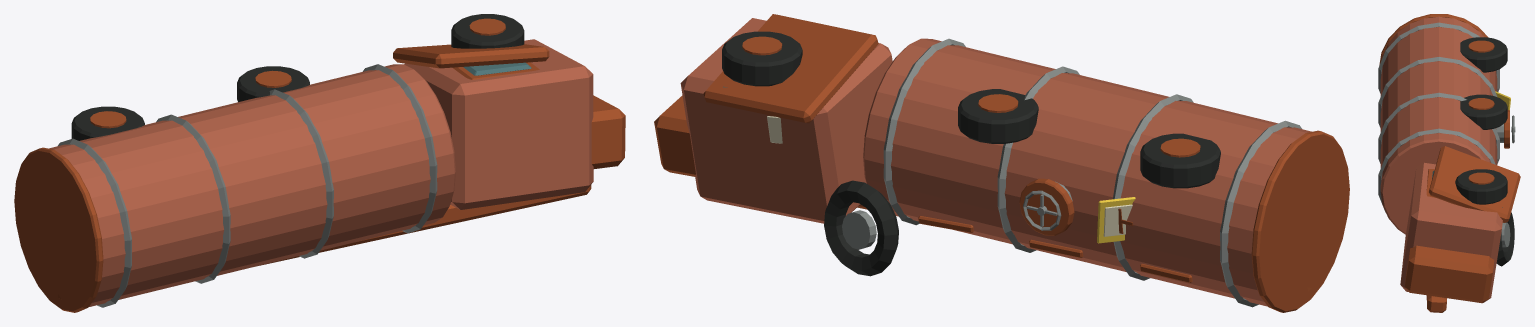
The model's file is fuel_tanker.glb.
3 renders of one model, left to right at view 1: azimuth 30°, elevation 25°; view 2: azimuth 150°, elevation 25°; view 3: azimuth 270°, elevation 25°, orthographic. The views are drawn at different scales.
Parts seen in each view (by area): view 1: fuel_tanker; view 2: fuel_tanker; view 3: fuel_tanker.
Boxes of the visible parts, box(x1,y1,x2,y2) form: fuel_tanker: box(14, 14, 625, 312); fuel_tanker: box(654, 14, 1349, 312); fuel_tanker: box(1378, 14, 1520, 312).
Bounding box in the file's own units: 8.08 × 2.49 × 2.52.
